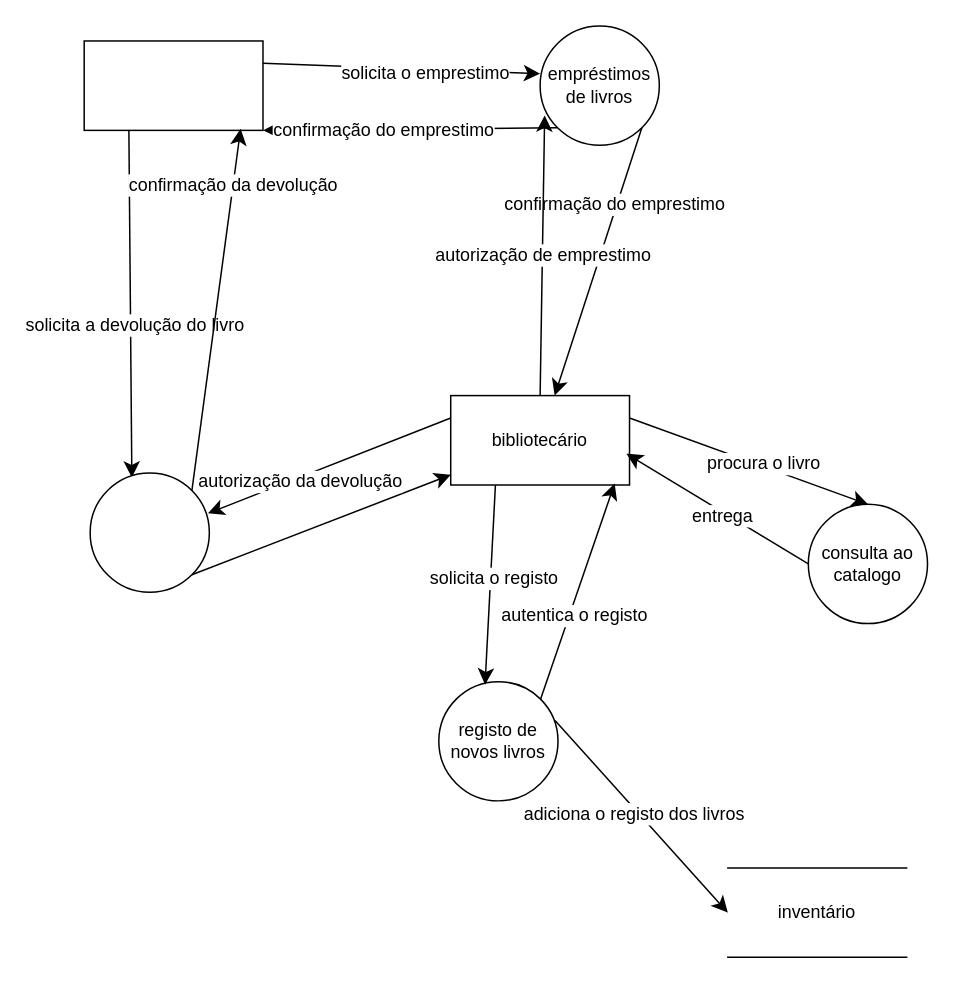
Some shapes in this 955 by 983 pixel diagram are drawn without their labels. The shapes that lost their labels are listed below. From the top down, each one's centre as x and y in pixels, then its label:
At pixel 173 84: "Usuário".
At pixel 149 532: "devolução de livros".
